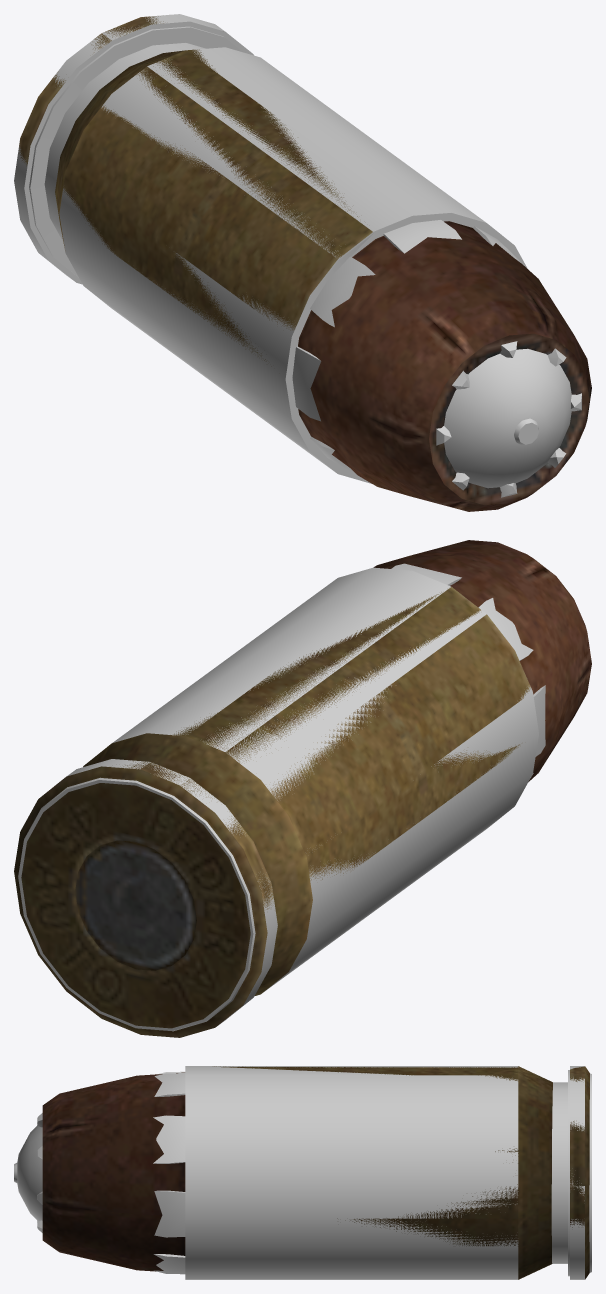
The picture shows the model from 3 angles, top to bottom: view 1: azimuth 30°, elevation 25°; view 2: azimuth 150°, elevation 25°; view 3: azimuth 270°, elevation 25°; orthographic projection. The views are drawn at different scales.
Parts seen in each view (by area): view 1: patron_1143x23_acp_hydra_shok_full_LOD0, patron_1143x23_acp_hydra_shok_shell_LOD0, patron_1143x23_acp_shell_LOD0, patron_1143x23_acp_full_LOD0, patron_1143x23_acp_ap_full_LOD0, patron_1143x23_rip_full_LOD0, patron_1143x23_rip_shell_LOD0, patron_1143x23_acp_ap_shell_LOD0; view 2: patron_1143x23_acp_hydra_shok_shell_LOD0, patron_1143x23_acp_shell_LOD0, patron_1143x23_acp_hydra_shok_full_LOD0, patron_1143x23_acp_ap_full_LOD0, patron_1143x23_acp_full_LOD0, patron_1143x23_rip_full_LOD0, patron_1143x23_acp_ap_shell_LOD0, patron_1143x23_rip_shell_LOD0; view 3: patron_1143x23_acp_shell_LOD0, patron_1143x23_acp_hydra_shok_full_LOD0, patron_1143x23_acp_hydra_shok_shell_LOD0, patron_1143x23_acp_ap_full_LOD0, patron_1143x23_rip_full_LOD0, patron_1143x23_acp_full_LOD0.
Boxes of the visible parts, x1,y1,x2,y2 form: patron_1143x23_acp_hydra_shok_full_LOD0: [19, 16, 591, 511]; patron_1143x23_acp_hydra_shok_shell_LOD0: [18, 16, 372, 366]; patron_1143x23_acp_shell_LOD0: [14, 14, 486, 258]; patron_1143x23_acp_full_LOD0: [14, 21, 571, 488]; patron_1143x23_acp_ap_full_LOD0: [20, 220, 538, 471]; patron_1143x23_rip_full_LOD0: [31, 26, 581, 497]; patron_1143x23_rip_shell_LOD0: [29, 27, 524, 479]; patron_1143x23_acp_ap_shell_LOD0: [28, 220, 296, 379]; patron_1143x23_acp_hydra_shok_shell_LOD0: [14, 587, 530, 1037]; patron_1143x23_acp_shell_LOD0: [67, 567, 486, 951]; patron_1143x23_acp_hydra_shok_full_LOD0: [121, 540, 591, 899]; patron_1143x23_acp_ap_full_LOD0: [218, 692, 538, 1025]; patron_1143x23_acp_full_LOD0: [103, 724, 350, 972]; patron_1143x23_rip_full_LOD0: [18, 563, 545, 1030]; patron_1143x23_acp_ap_shell_LOD0: [229, 686, 538, 1016]; patron_1143x23_rip_shell_LOD0: [20, 780, 255, 1031]; patron_1143x23_acp_shell_LOD0: [185, 1066, 584, 1246]; patron_1143x23_acp_hydra_shok_full_LOD0: [42, 1066, 584, 1271]; patron_1143x23_acp_hydra_shok_shell_LOD0: [214, 1066, 589, 1279]; patron_1143x23_acp_ap_full_LOD0: [14, 1163, 584, 1279]; patron_1143x23_rip_full_LOD0: [37, 1071, 591, 1276]; patron_1143x23_acp_full_LOD0: [17, 1126, 278, 1267].
Size of the model in its own units: 1.68 by 1.68 by 4.52.
